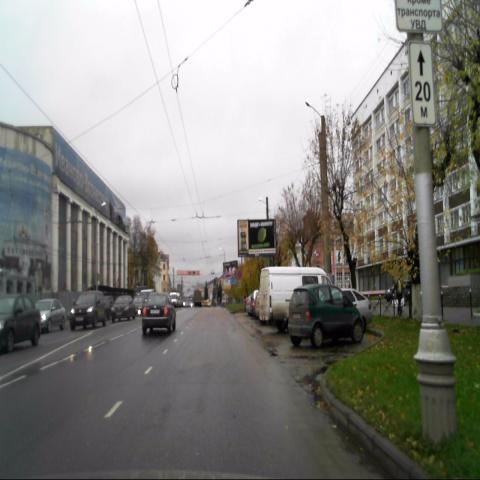8_2_2: (409, 41, 437, 127)
